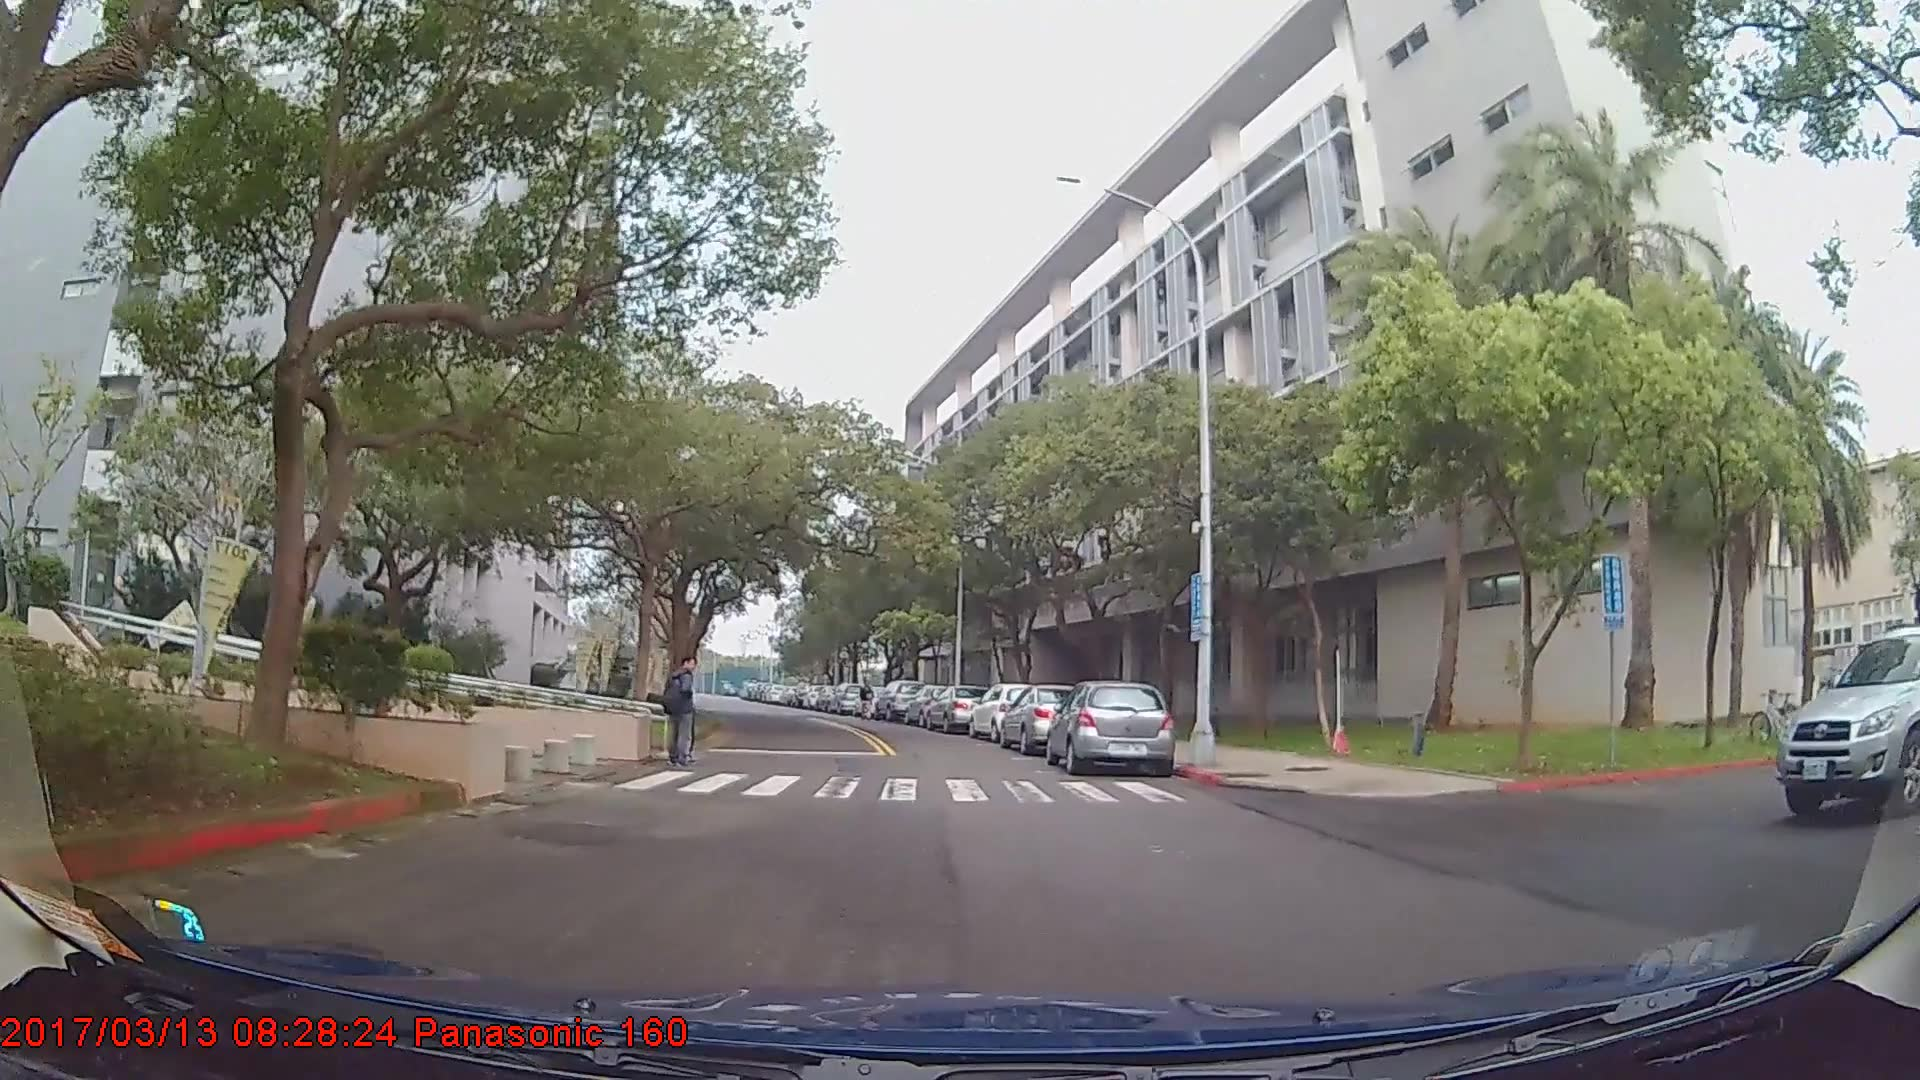pedestrian: (666, 657, 708, 777), (858, 679, 878, 722)
vehicle: (1774, 625, 1920, 819), (1045, 677, 1173, 774), (998, 684, 1093, 753), (969, 680, 1053, 741), (925, 682, 992, 732), (873, 676, 925, 720)
